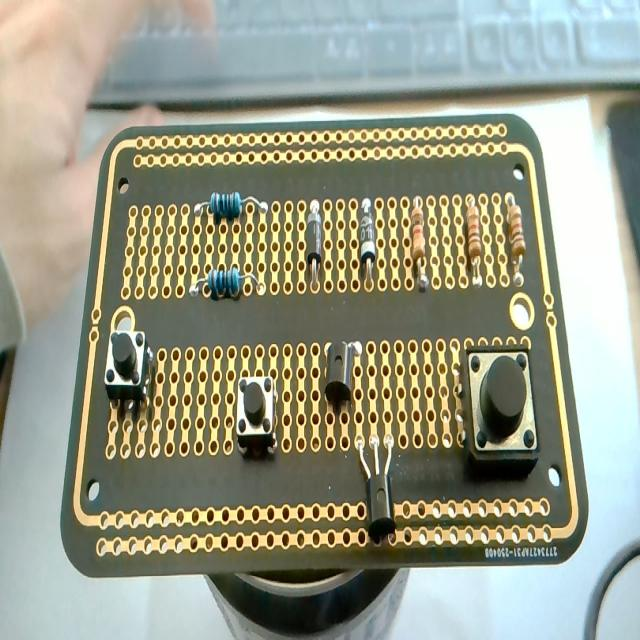diode: (359, 198, 377, 286), (306, 201, 323, 290)
resistor: (190, 266, 262, 299), (192, 190, 264, 221), (506, 195, 526, 284), (409, 198, 427, 290), (465, 198, 483, 286)
switch: (464, 345, 540, 463), (104, 324, 153, 408), (235, 374, 278, 455)
transistor: (357, 432, 397, 544), (324, 341, 361, 408)
